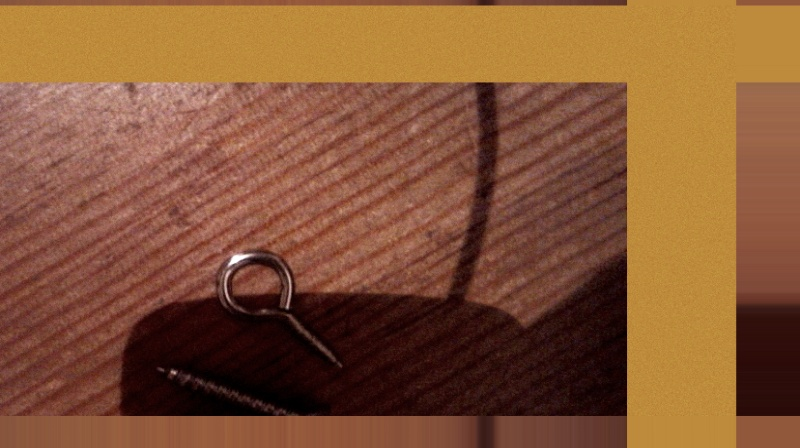O001: (215, 247, 345, 371)
S001: (153, 362, 332, 447)
